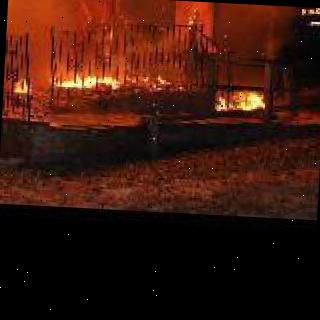fire: (44, 52, 172, 94), (196, 80, 272, 118), (4, 68, 32, 97)
